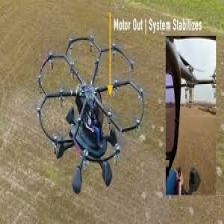drone: (32, 25, 146, 200)
